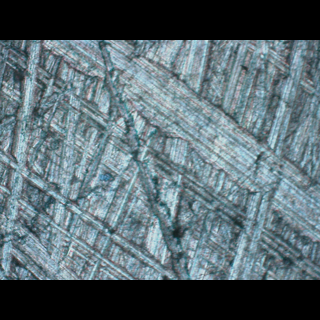d: (81, 59, 300, 264)
